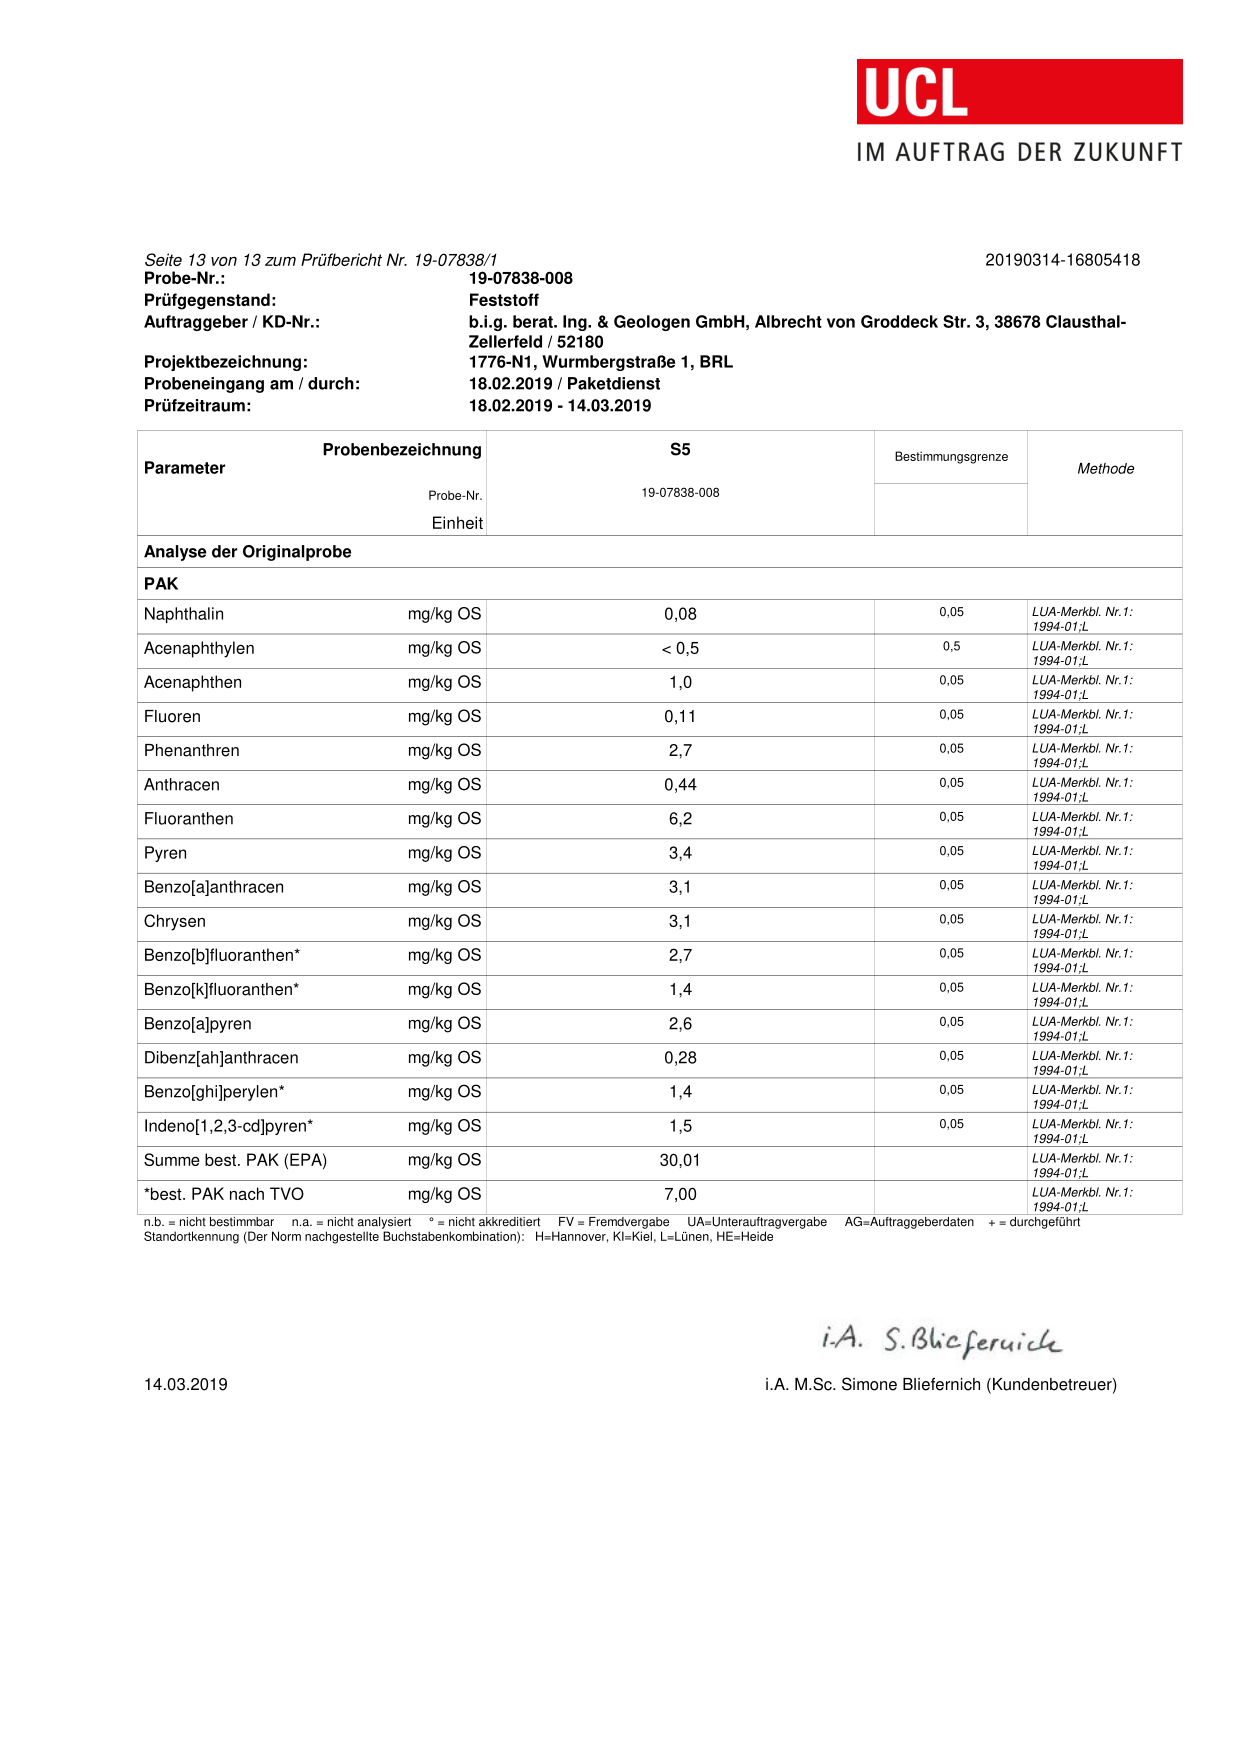table: (123, 598, 1189, 1220)
